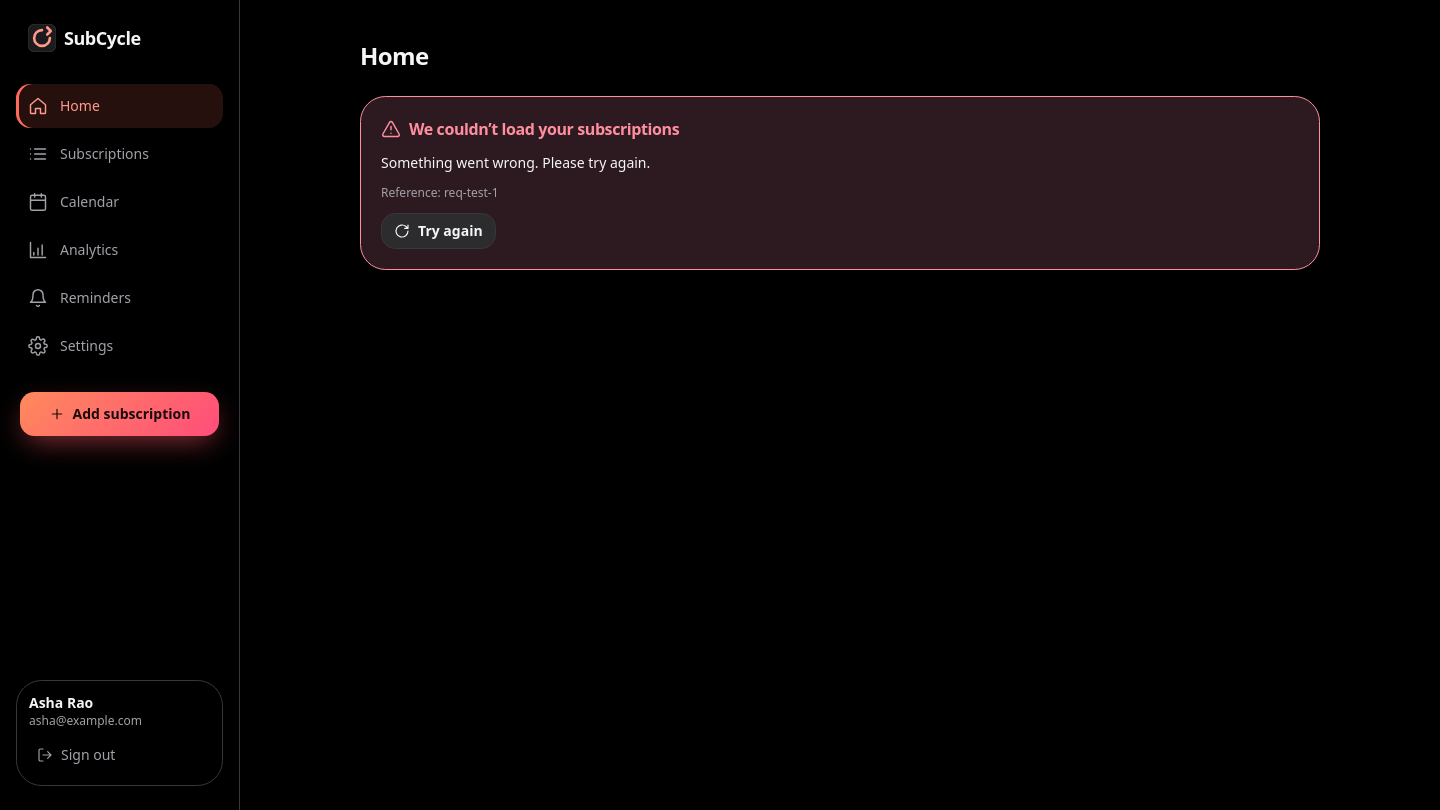
it: dashboard states › an API failure shows a safe message with Retry, and Retry reloads
Expected: the message shows "We couldn’t load your subscriptions", left=409, top=118, right=679, bottom=140
Expected: the message shows "Something went wrong. Please try again.", left=381, top=153, right=650, bottom=172
Click the button "Try again" at (438, 231), box left=381, top=213, right=496, bottom=249
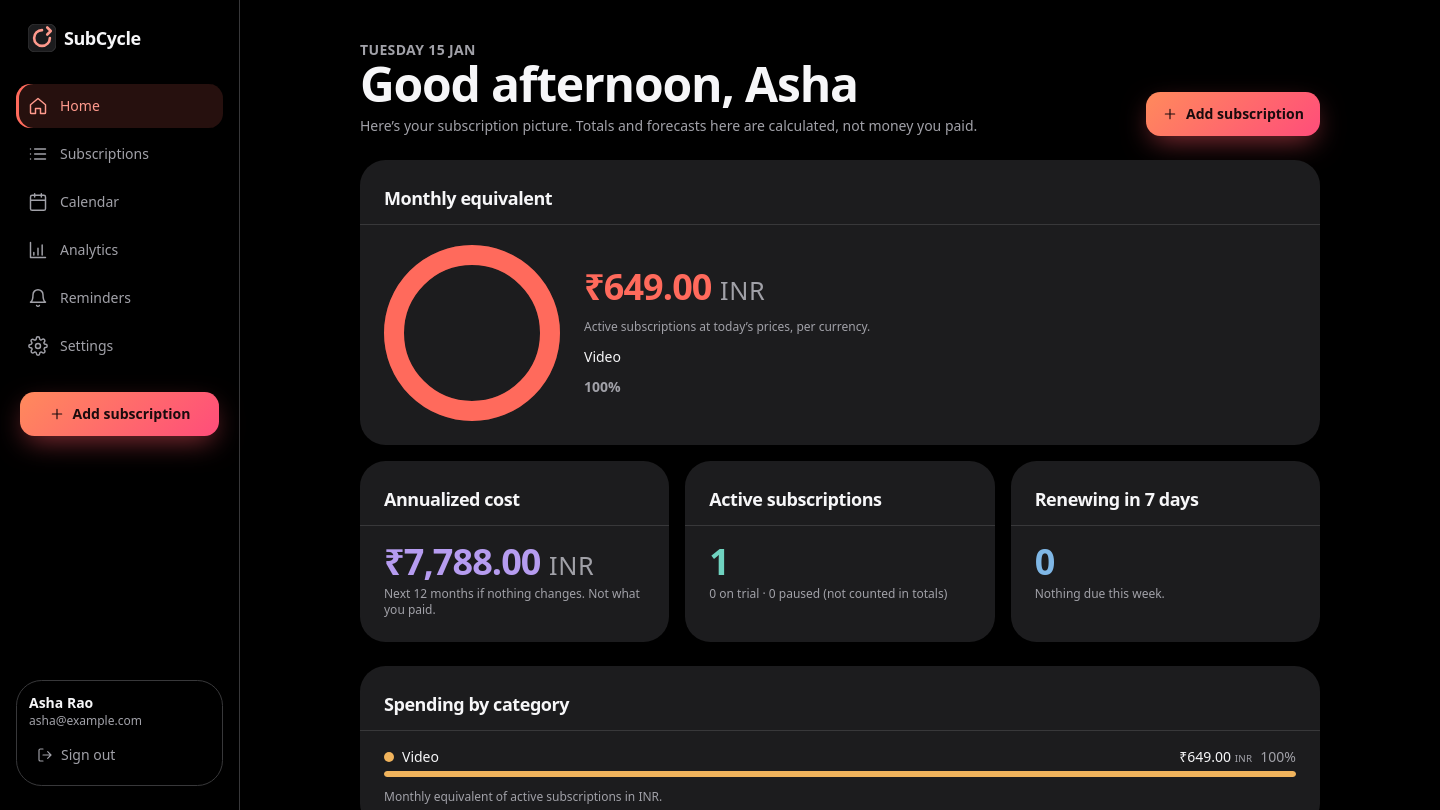
Expected: the heading "Monthly equivalent" is shown, left=384, top=184, right=552, bottom=212
